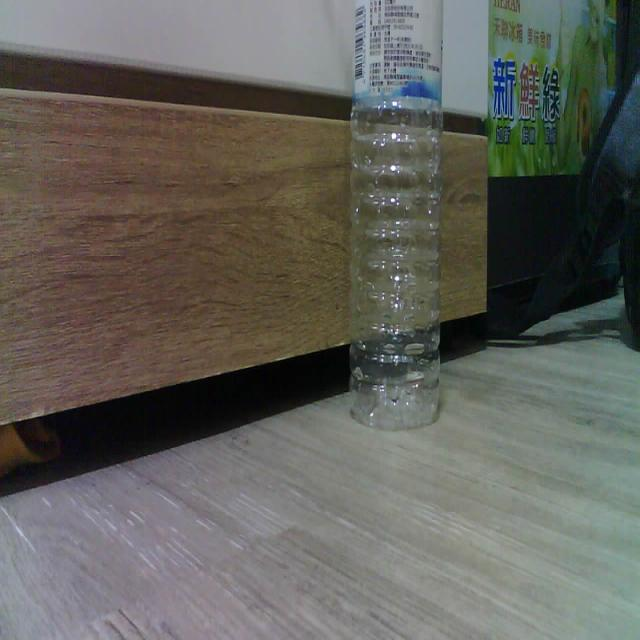bottle: (350, 0, 442, 428)
